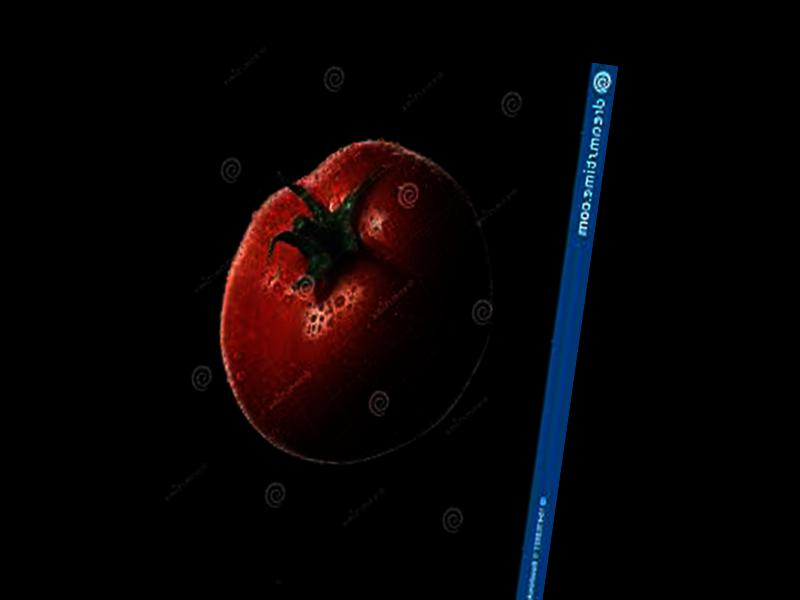Tomato: (200, 120, 512, 485)
